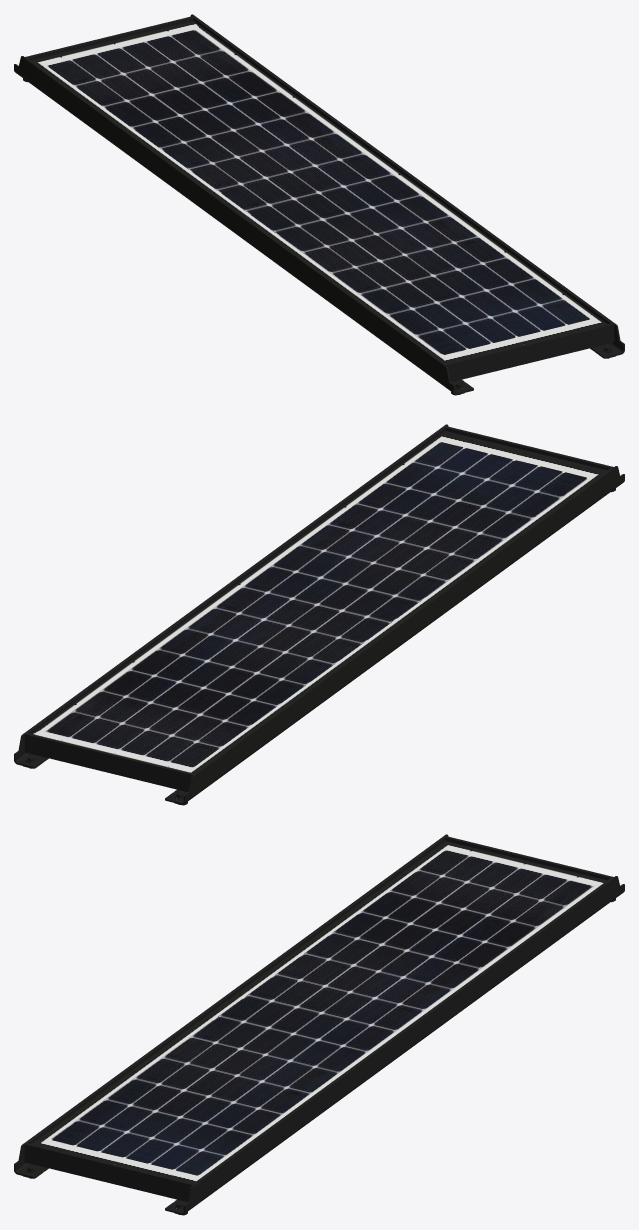
3 views of the same model, one above another, from view 1: azimuth 30°, elevation 25°; view 2: azimuth 150°, elevation 25°; view 3: azimuth 330°, elevation 25° (orthographic).
Parts seen in each view (by area): view 1: solar100; view 2: solar100; view 3: solar100.
Part boxes in pixels (x1,y1,x2,y2): solar100: [14, 14, 624, 395]; solar100: [14, 424, 624, 805]; solar100: [14, 834, 624, 1215].
Bounding box in the file's own units: 0.3502 × 0.0564 × 1.56.
Materials: 1 (1 with a texture image).
